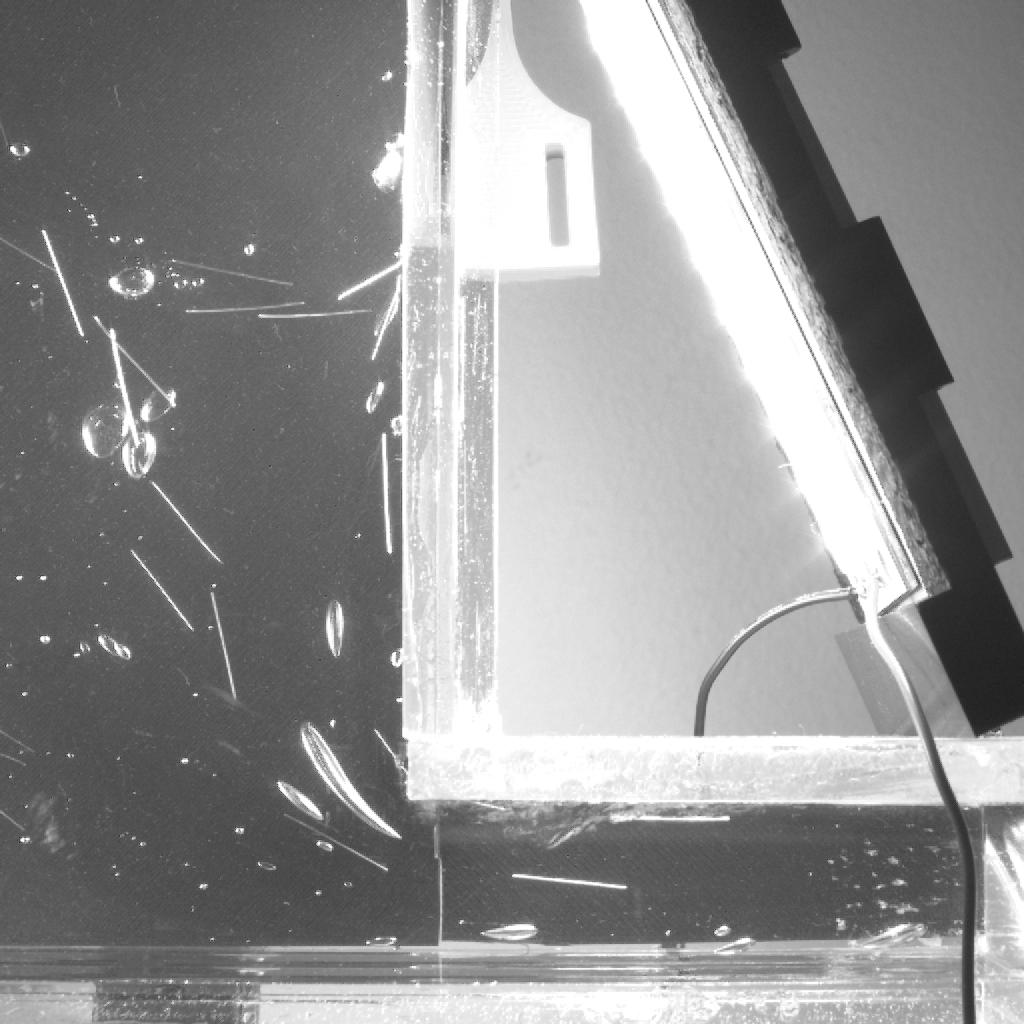Fiber: (88, 307, 181, 415), (280, 804, 396, 879), (142, 478, 230, 567), (126, 543, 202, 641), (35, 229, 93, 343), (105, 328, 148, 447), (168, 256, 303, 291), (204, 586, 243, 704), (367, 718, 420, 790), (330, 254, 404, 303), (502, 869, 632, 896), (365, 282, 405, 369), (608, 810, 737, 832), (0, 231, 61, 277), (379, 431, 398, 564), (184, 298, 307, 318), (256, 304, 373, 321), (0, 721, 37, 760), (0, 809, 30, 840), (0, 750, 31, 768)
